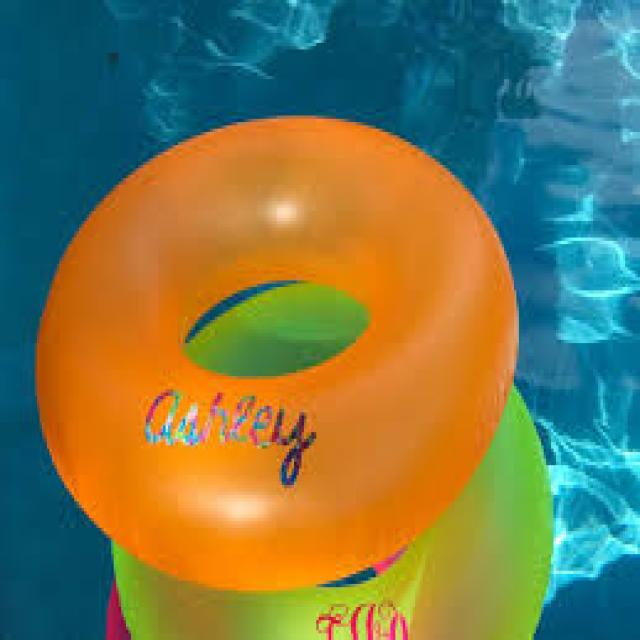litter: (43, 110, 524, 587), (110, 386, 556, 640)
